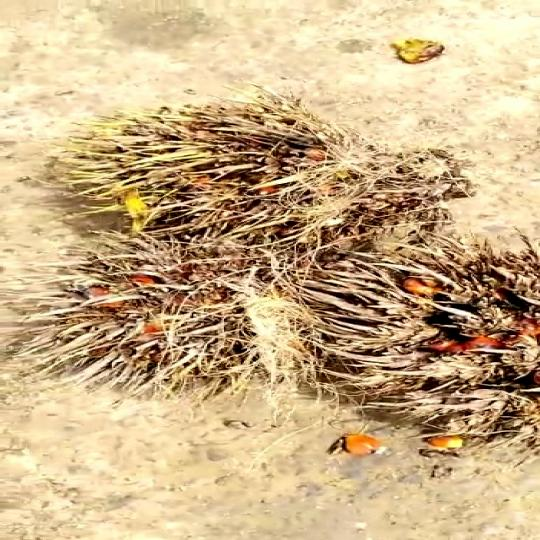terlalu masak: (40, 94, 462, 224), (29, 224, 314, 388), (293, 249, 540, 426)
